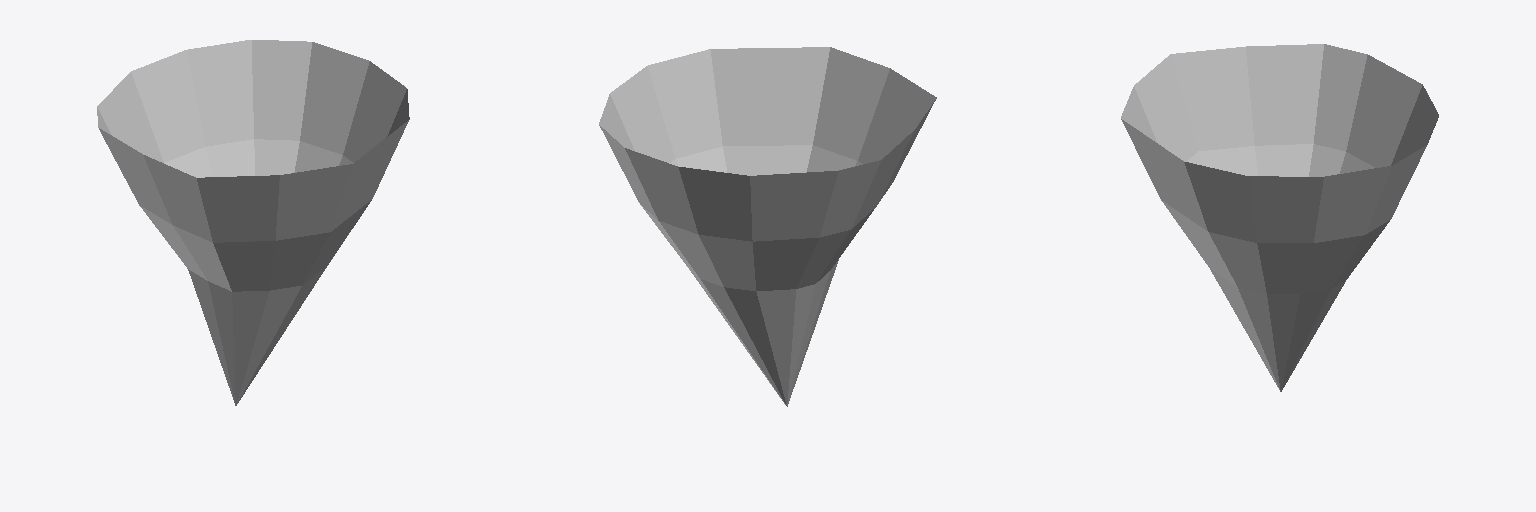
Rendered from Tornado.obj.
The picture shows the model from 3 angles: view 1: azimuth 30°, elevation 25°; view 2: azimuth 150°, elevation 25°; view 3: azimuth 270°, elevation 25°; orthographic projection.
Parts seen in each view (by area): view 1: texture; view 2: texture; view 3: texture.
Boxes of the visible parts, <box> form: texture: <box>97,40,409,405</box>; texture: <box>599,47,936,406</box>; texture: <box>1121,44,1438,391</box>.
Size of the model in its own units: 28.57 by 29.37 by 29.02.